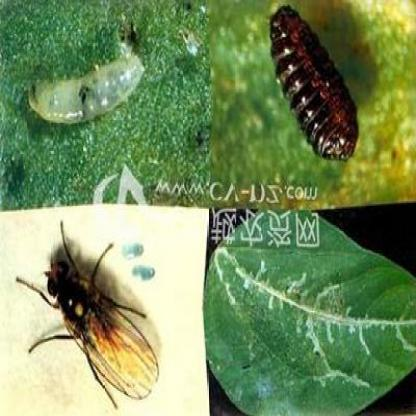whorl-maggot: (254, 2, 362, 166), (23, 37, 155, 126)
